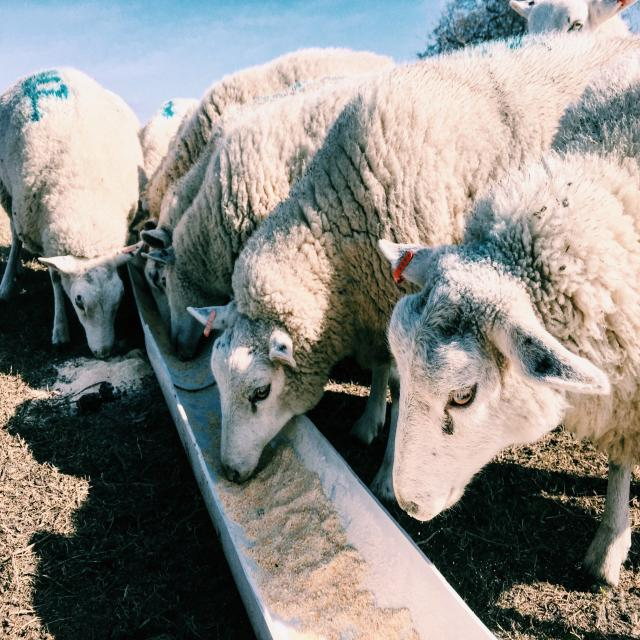sheep: (380, 213, 608, 554), (138, 74, 391, 353), (213, 183, 459, 452), (3, 78, 141, 365)
